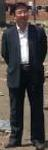boots: (3, 133, 20, 148)
